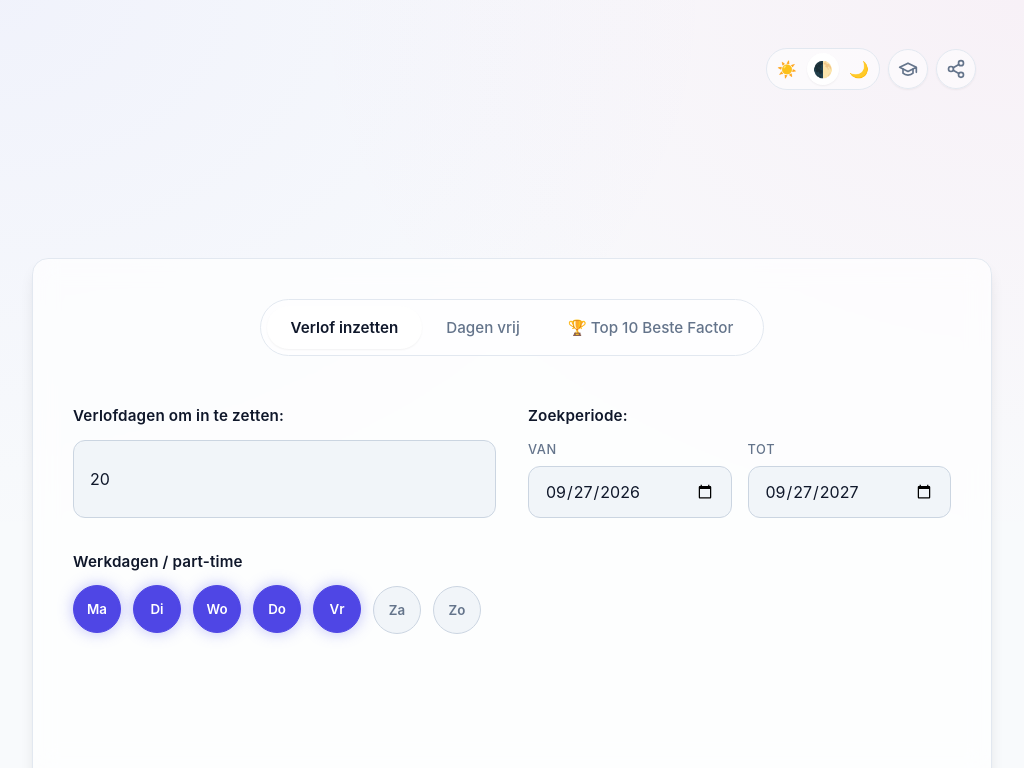
Test: App › switches to the "how long do you want to be free" mode
Click the button "Dagen vrij". click: (483, 327)
box: [422,306,544,349]
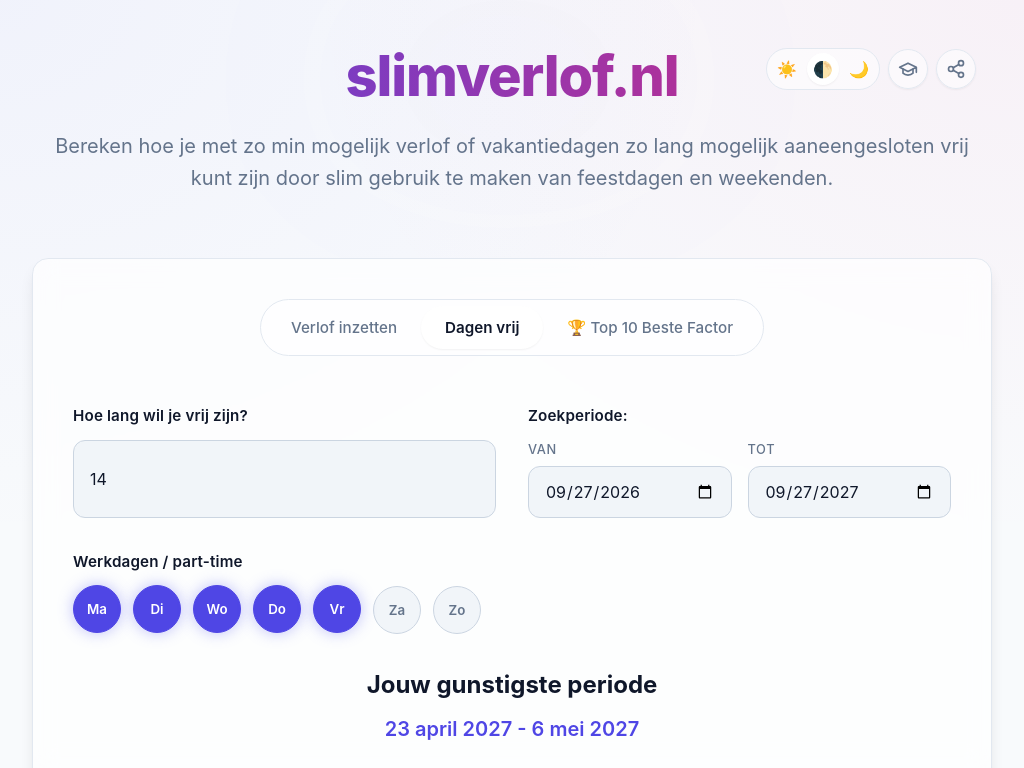
Check: the number field with id "targetLength" holds "14", box [73,440,496,518]
Check: the label is gone
